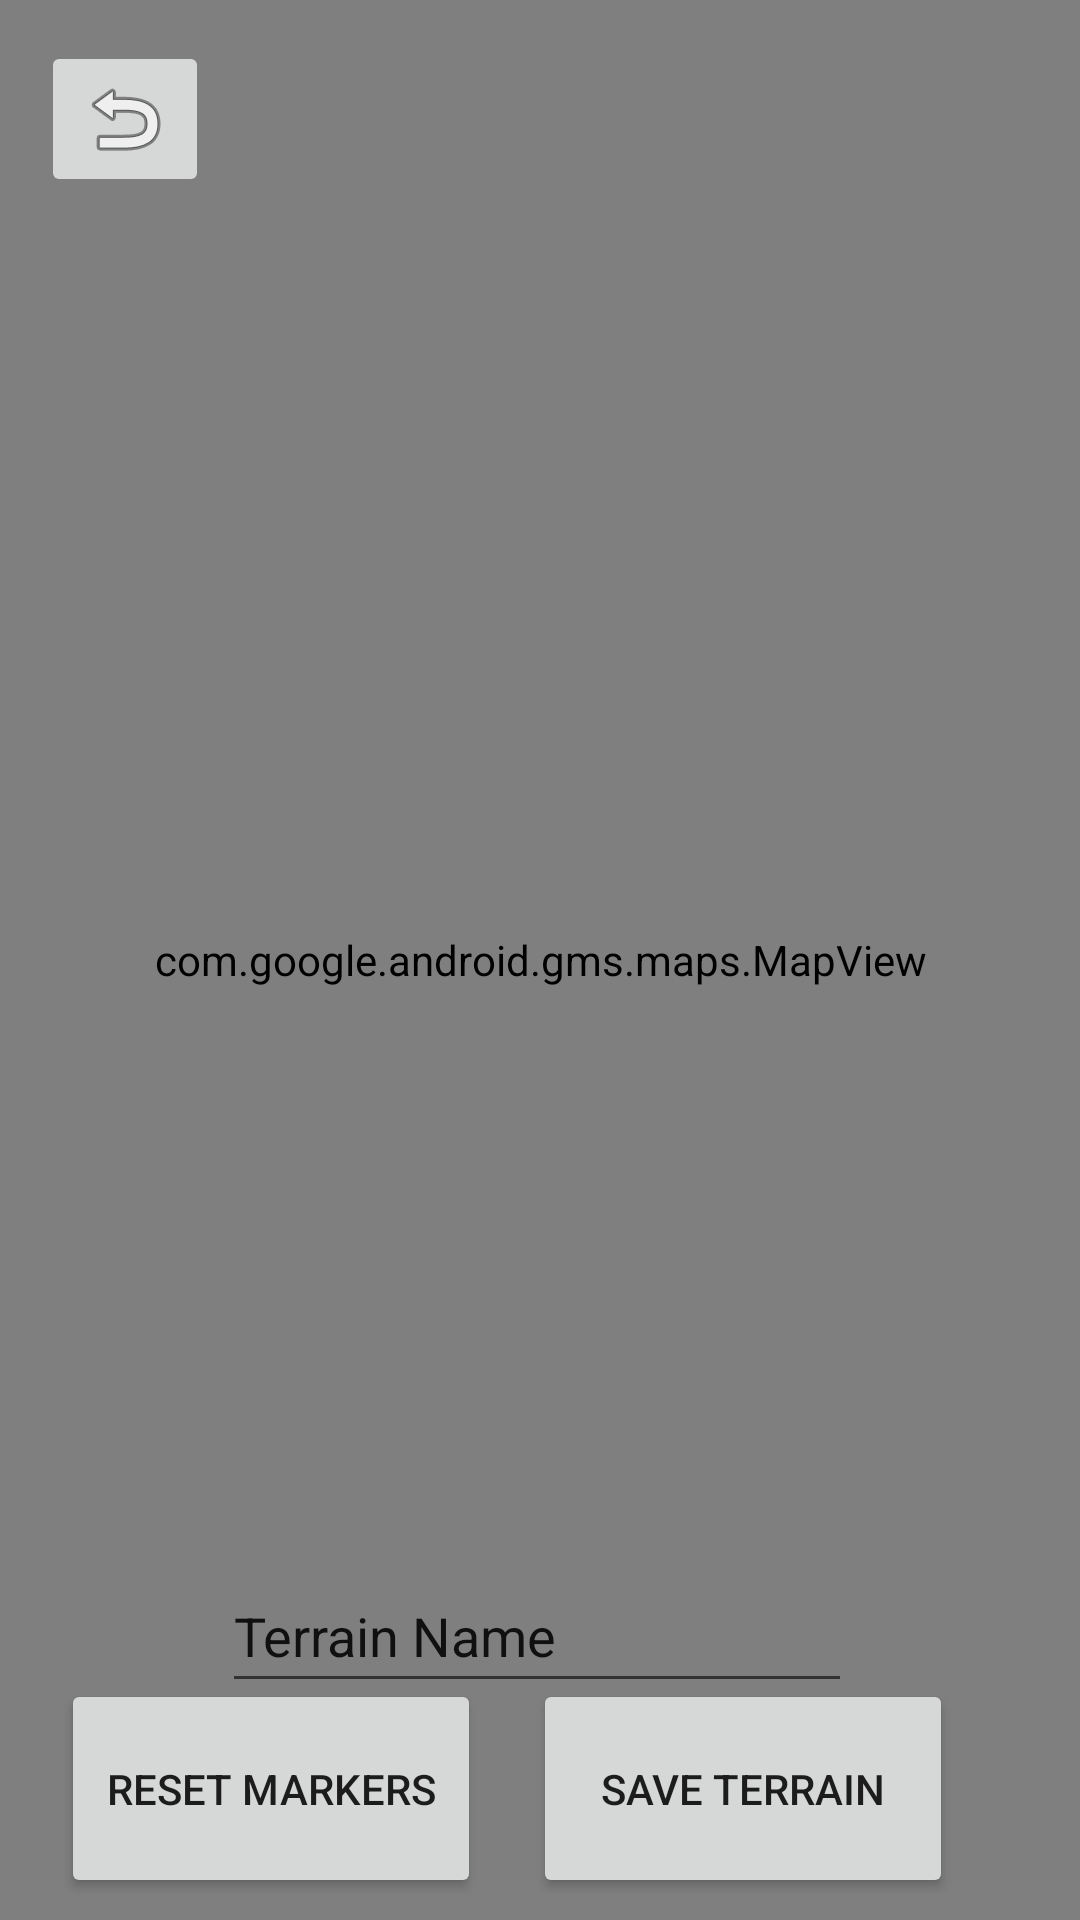

Icons on this 1080px×1920px Android screen, each with the point to tap as point (x, y):
revert: point (125, 119)
